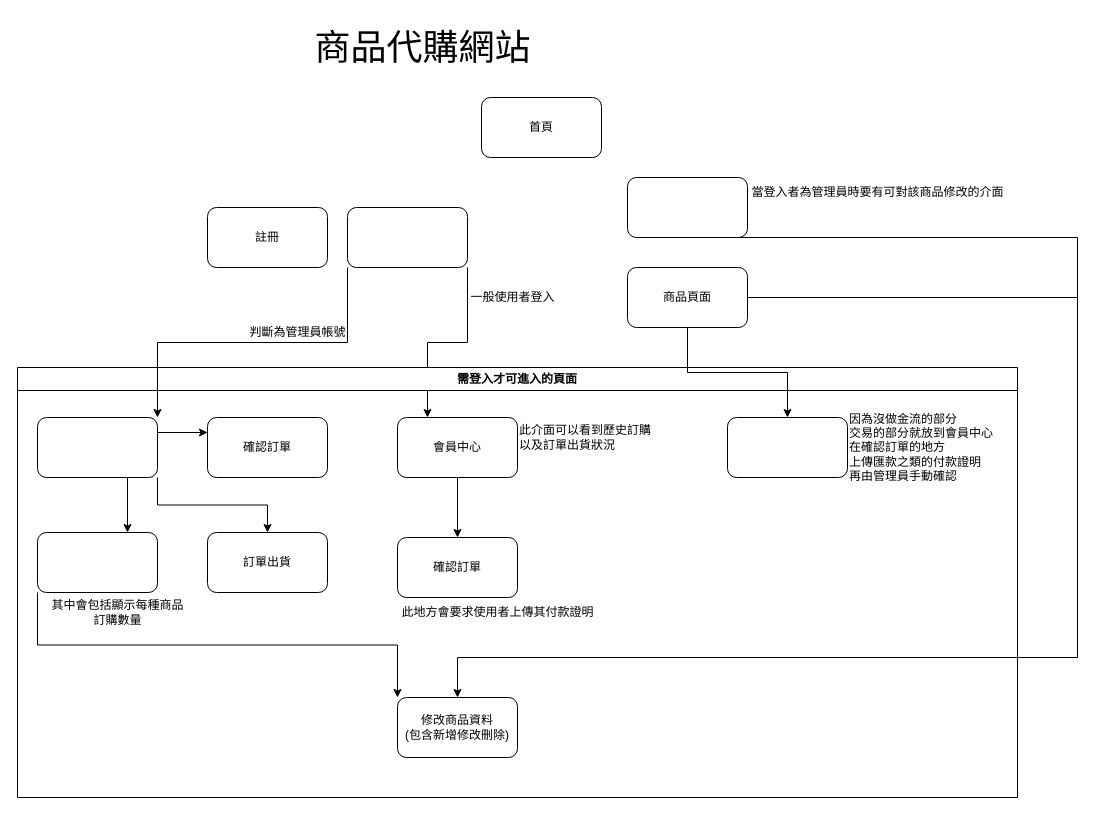
This 1103x815 diagram has some shape labels left out. The centre of each missing label's shape, as x and y in pixels:
"商品數據頁面 (顯示訂購數據)" belongs at point (97, 562).
"商品瀏覽" belongs at point (687, 207).
"登入" belongs at point (407, 237).
"管理頁面" belongs at point (97, 447).
"訂購介面" belongs at point (787, 447).
